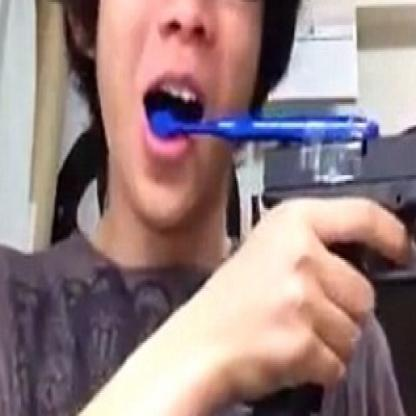gun: (252, 102, 415, 414)
